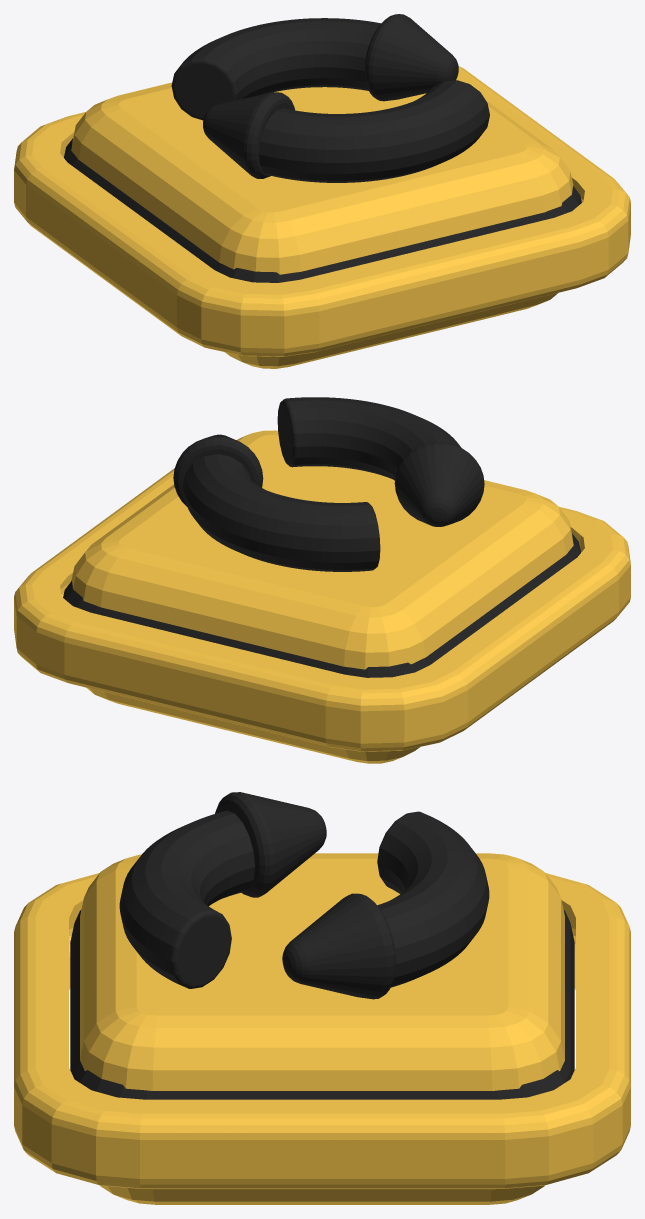
Rendered from Button_Shuffle.fbx.
3 views of the same model, one above another, from view 1: azimuth 30°, elevation 25°; view 2: azimuth 150°, elevation 25°; view 3: azimuth 270°, elevation 25° (orthographic). The views are drawn at different scales.
Parts seen in each view (by area): view 1: Cube_12, Cube, Torus_1, Torus, Cone, Cube_10, Cone_1; view 2: Cube, Cube_12, Torus, Torus_1, Cone_1, Cube_10, Cone; view 3: Cube, Cube_12, Torus_1, Torus, Cone, Cube_10, Cone_1.
Boxes of the visible parts, box(x1,y1,x2,y2) form: Cube_12: box(14, 66, 630, 356); Cube: box(71, 79, 573, 368); Torus_1: box(259, 80, 489, 182); Torus: box(171, 18, 380, 120); Cone: box(364, 14, 458, 101); Cube_10: box(64, 138, 581, 282); Cone_1: box(203, 92, 295, 178); Cube: box(71, 430, 573, 763); Cube_12: box(14, 468, 630, 751); Torus: box(182, 454, 380, 571); Torus_1: box(277, 397, 461, 480); Cone_1: box(394, 442, 484, 526); Cube_10: box(63, 533, 580, 677); Cone: box(173, 434, 263, 506); Cube: box(80, 853, 564, 1204); Cube_12: box(14, 873, 630, 1188); Torus_1: box(119, 810, 254, 988); Torus: box(377, 811, 489, 987); Cone: box(282, 893, 395, 999); Cube_10: box(70, 910, 574, 1099); Cone_1: box(215, 792, 326, 897).
Size of the model in its own units: 254 by 125 by 254.
